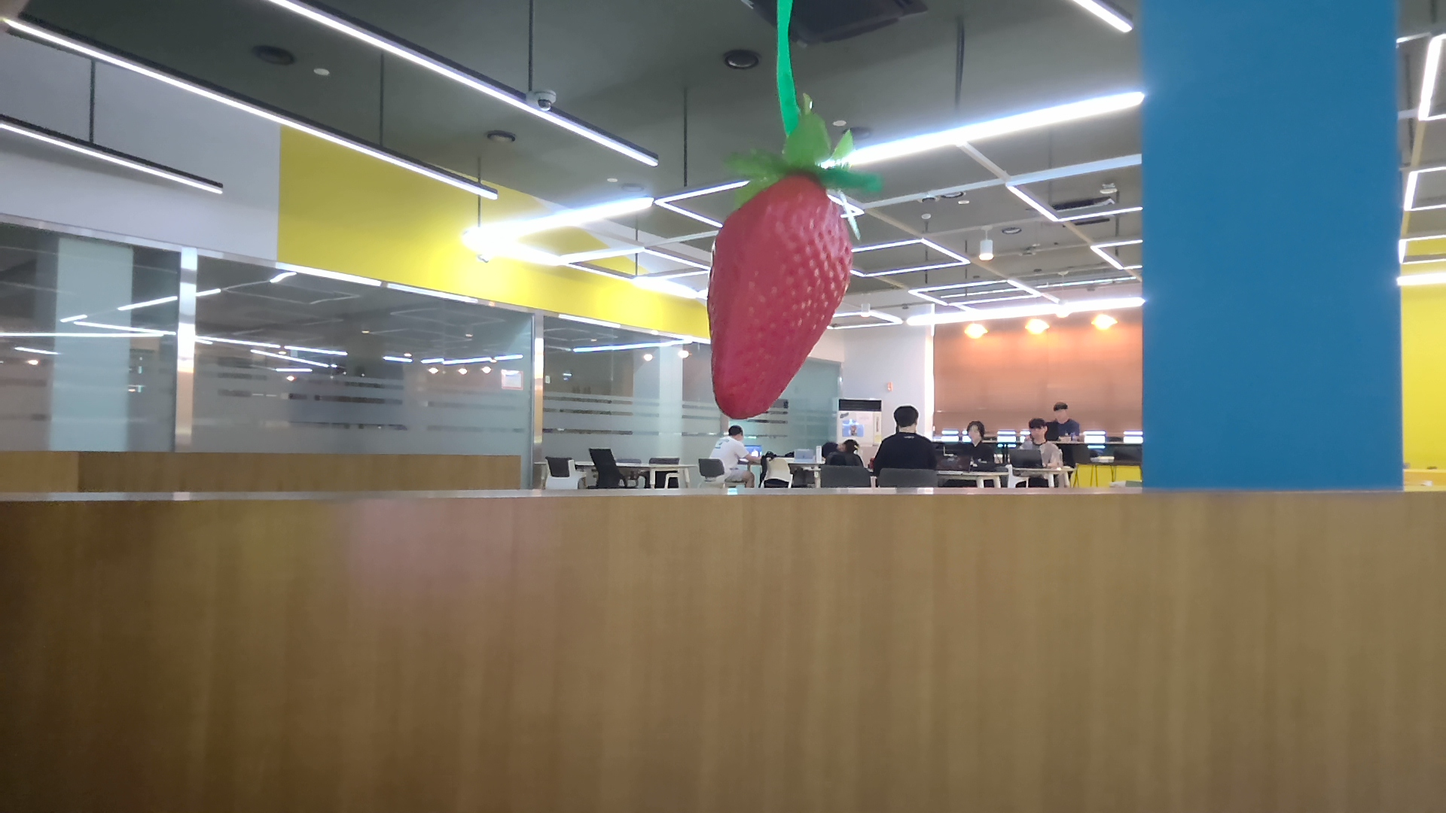strawberry: (694, 154, 883, 427)
